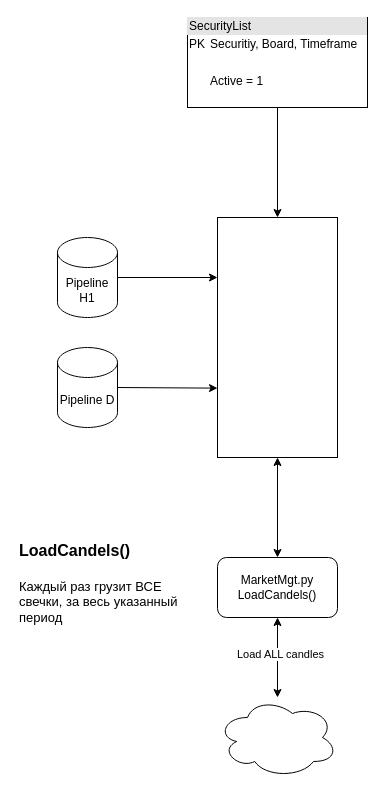
Some shapes in this 385 by 795 pixel diagram are drawn without their labels. Here are the shapes that lost their labels. From the top down, the centre of each, then its label:
At [277,337]: "GetCandleData.py GetCandleDataV2".
At [277,737]: "API".
